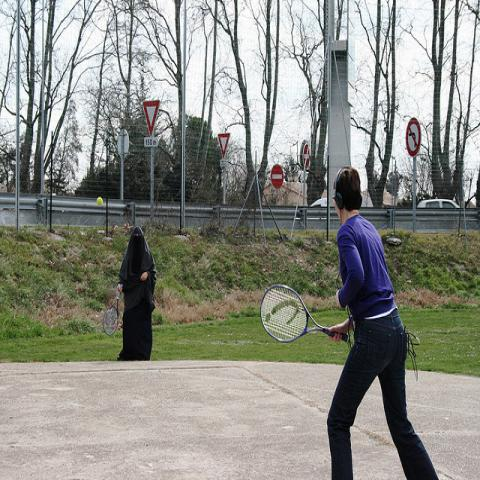car: (416, 198, 460, 208), (310, 198, 328, 206)
